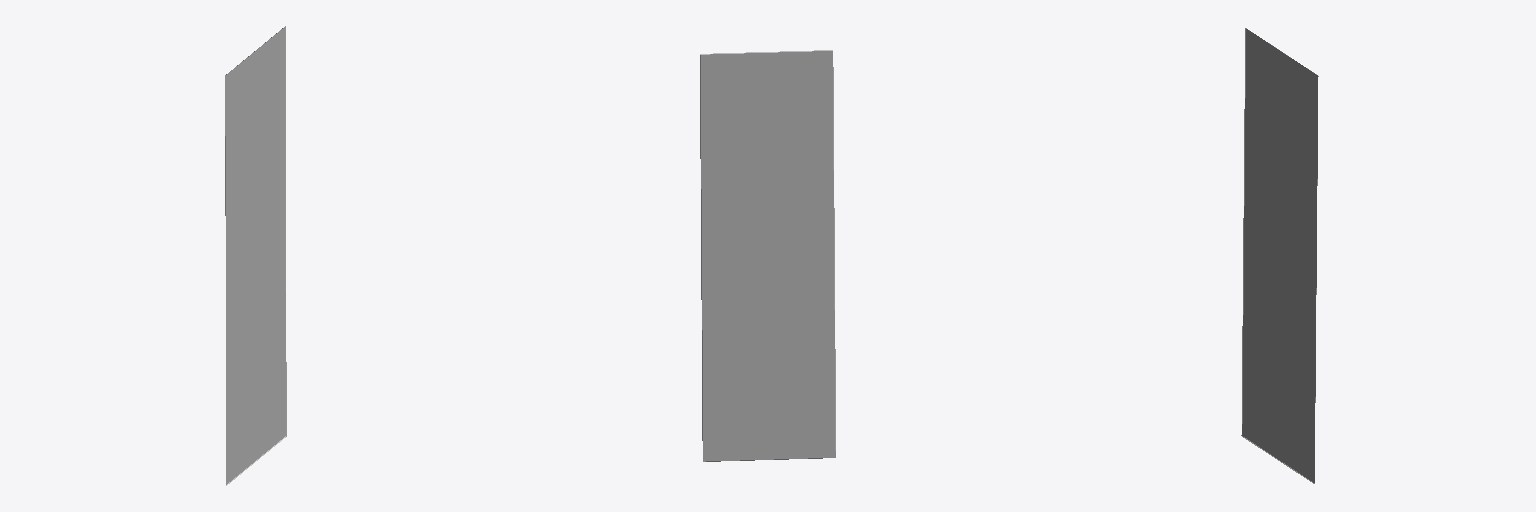
File: doorin1.obj
3 views of the same model, side by side, from view 1: azimuth 30°, elevation 25°; view 2: azimuth 150°, elevation 25°; view 3: azimuth 270°, elevation 25° (orthographic).
Parts seen in each view (by area): view 1: group_2.009_ID52.001; view 2: group_2.009_ID52.001; view 3: group_2.009_ID52.001.
Part boxes in pixels (x1,y1,x2,y2): group_2.009_ID52.001: (225,26,286,485); group_2.009_ID52.001: (700,50,835,461); group_2.009_ID52.001: (1241,28,1318,483).
Size of the model in its own units: 0.1059 by 0.4233 by 0.0721.